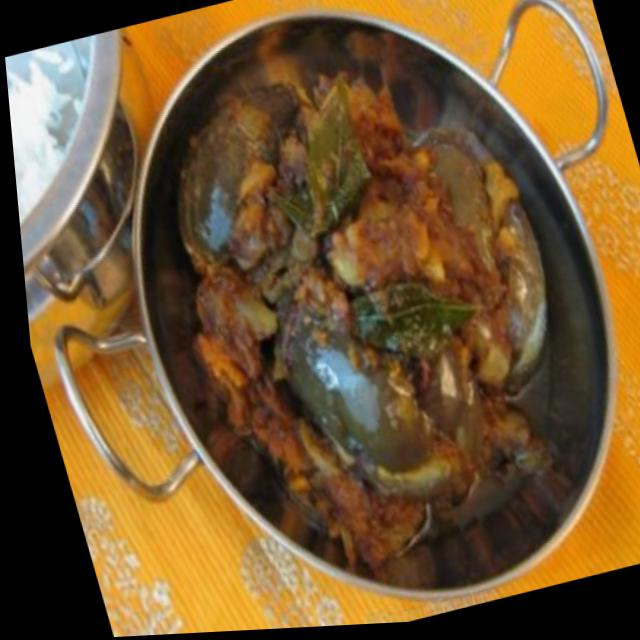CURRY: (81, 0, 640, 630)
